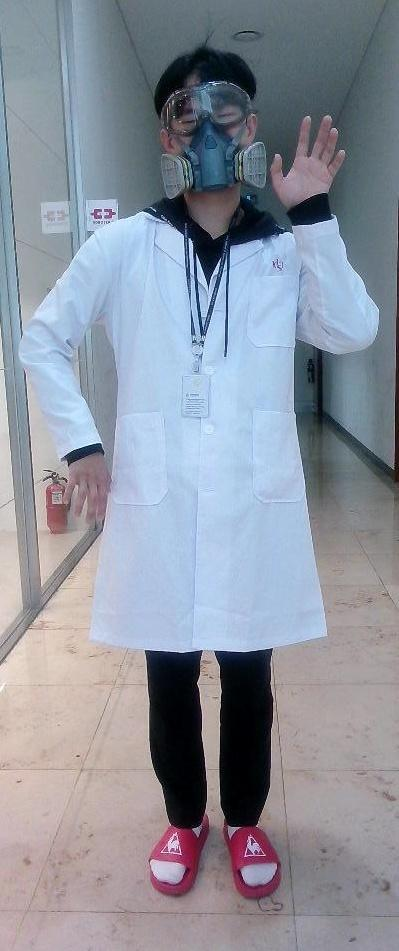lab_coat: (97, 230, 302, 644)
